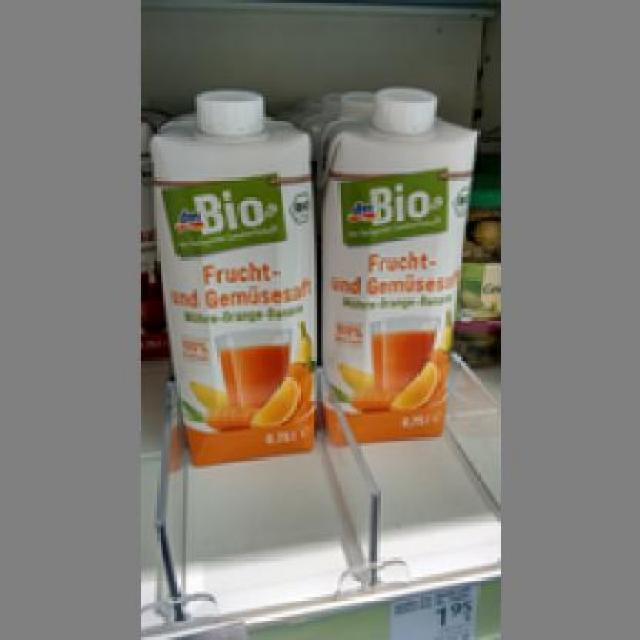Juice: (145, 86, 318, 463), (317, 83, 477, 443)
